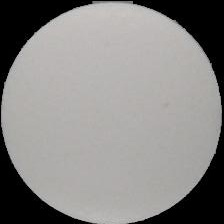68788-6332: (0, 0, 224, 224)
